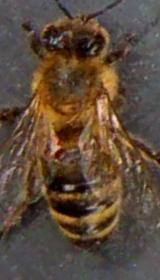varroa_mite: (40, 138, 74, 170)
